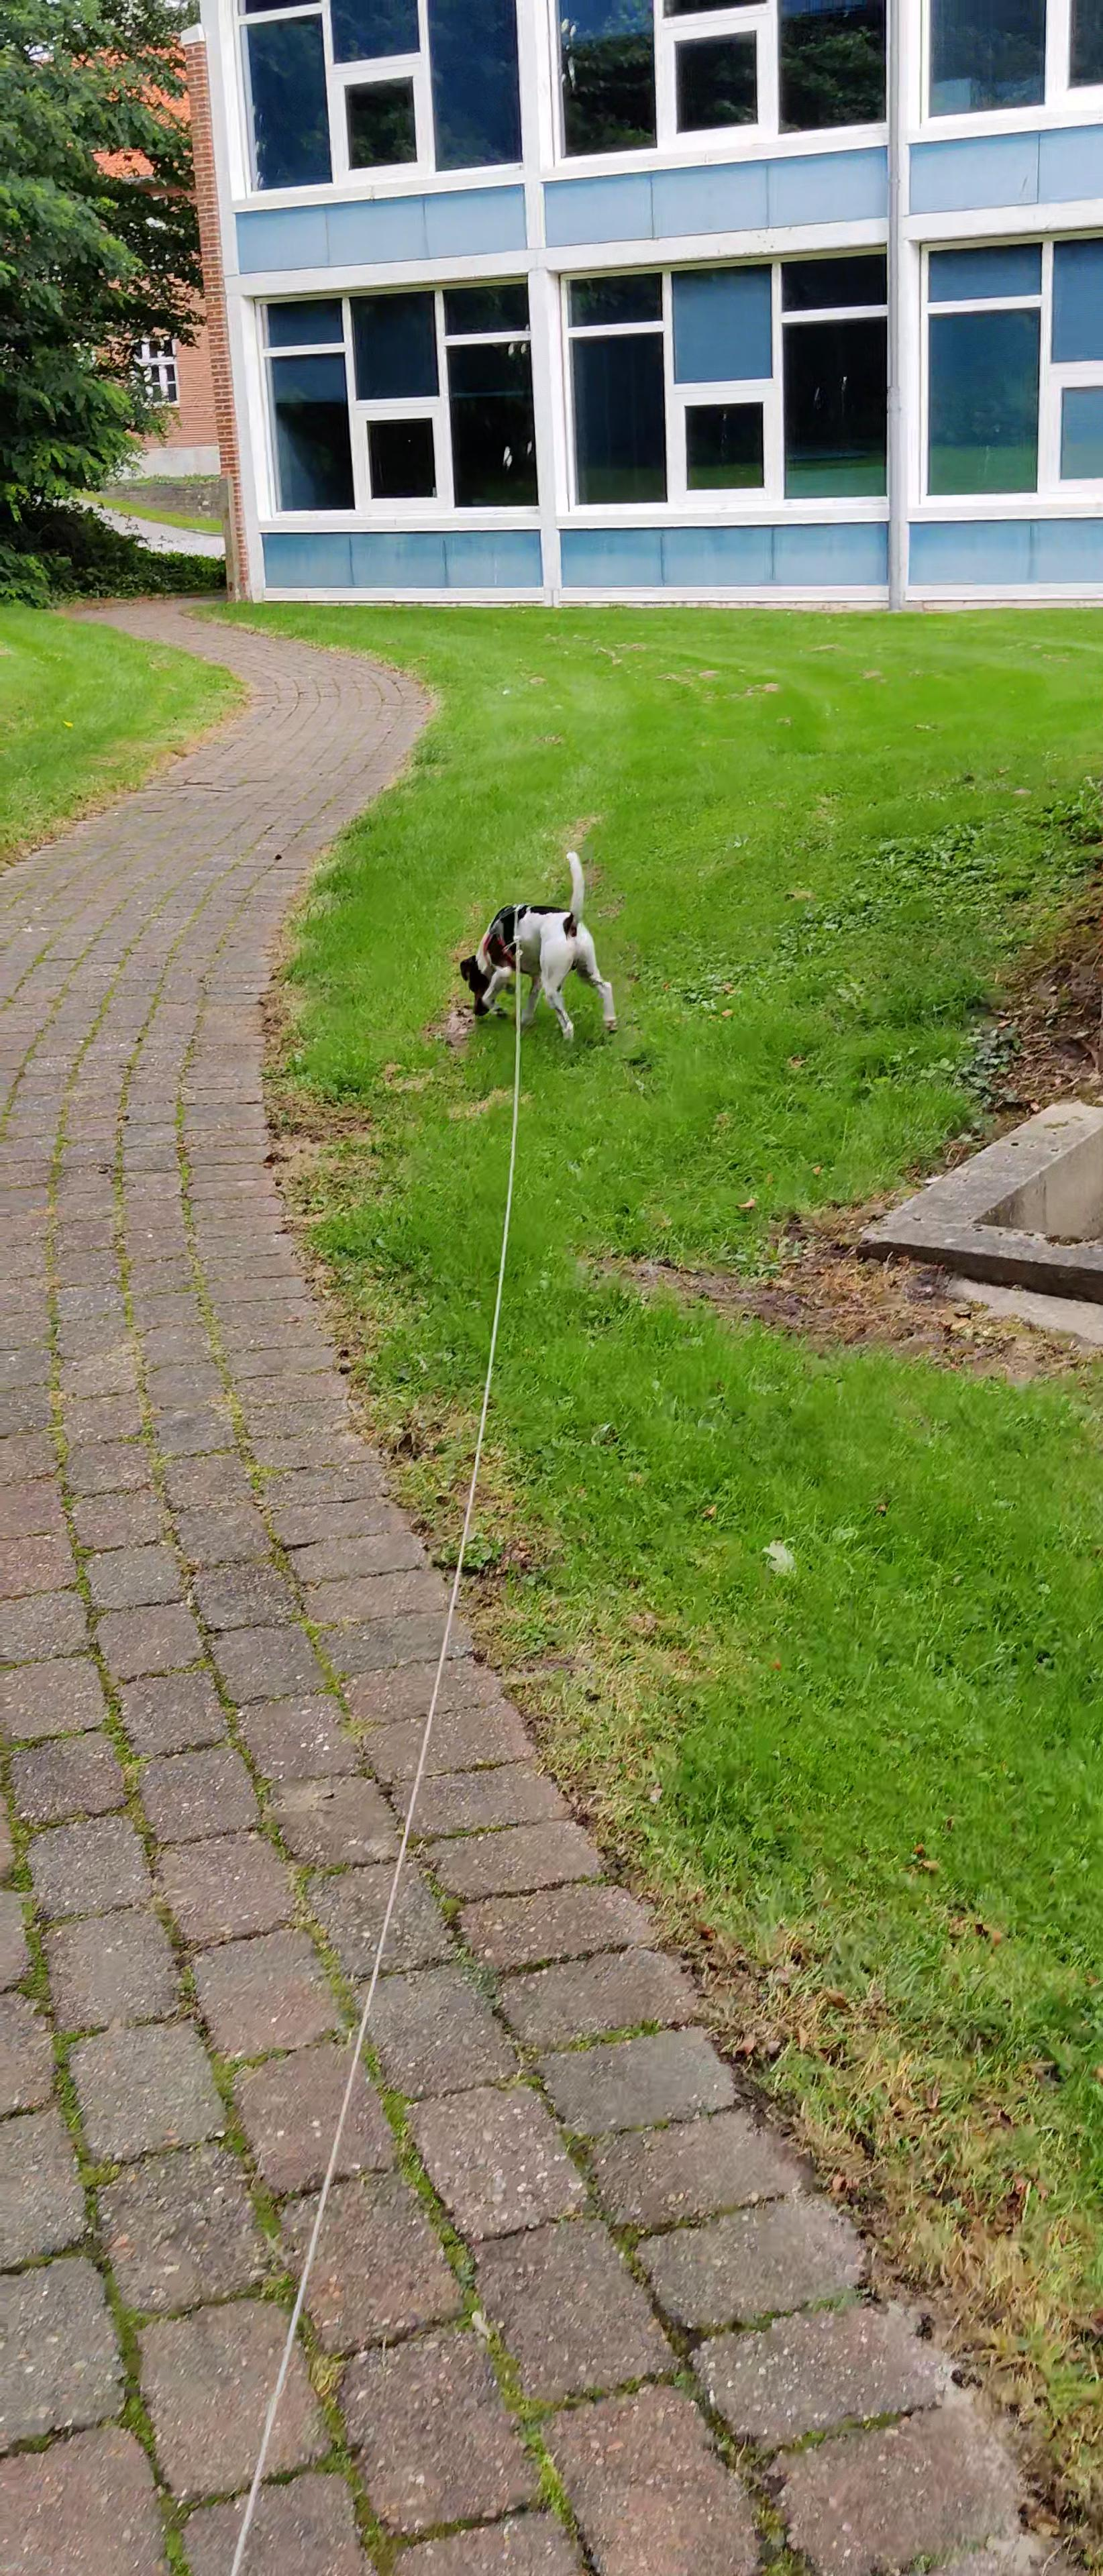Dog: (455, 841, 620, 1046)
